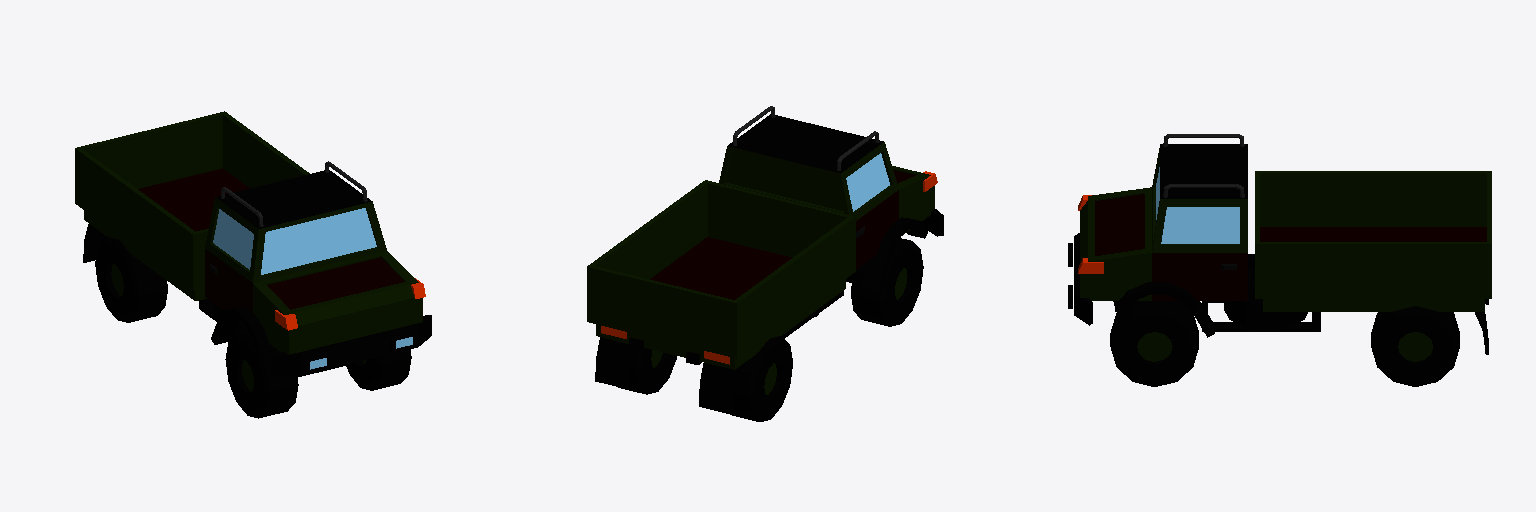
The model's file is Scout_Car.obj.
3 views of the same model, side by side, from view 1: azimuth 30°, elevation 25°; view 2: azimuth 150°, elevation 25°; view 3: azimuth 270°, elevation 25° (orthographic).
Parts seen in each view (by area): view 1: Scout_Car_Cube.006; view 2: Scout_Car_Cube.006; view 3: Scout_Car_Cube.006.
Boxes of the visible parts, x1=… form: Scout_Car_Cube.006: x1=75, y1=111, x2=431, y2=418; Scout_Car_Cube.006: x1=587, y1=106, x2=943, y2=421; Scout_Car_Cube.006: x1=1068, y1=134, x2=1491, y2=386.
Size of the model in its own units: 1.94 by 2.23 by 4.43.